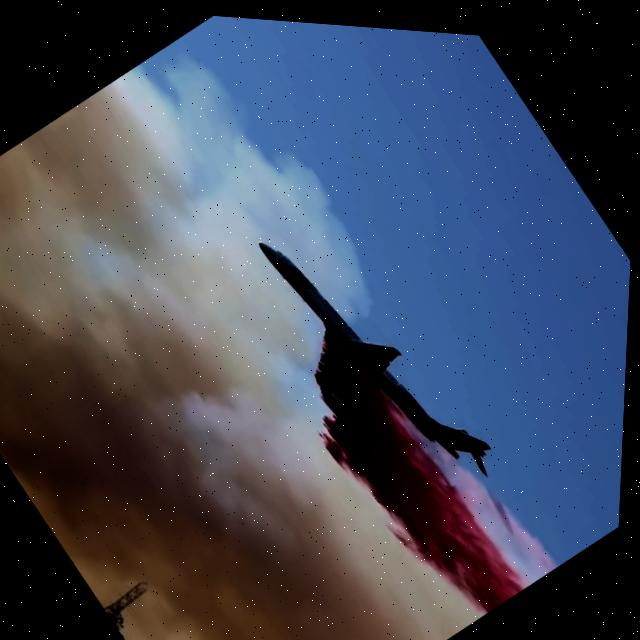Smoke: (0, 83, 485, 640)
